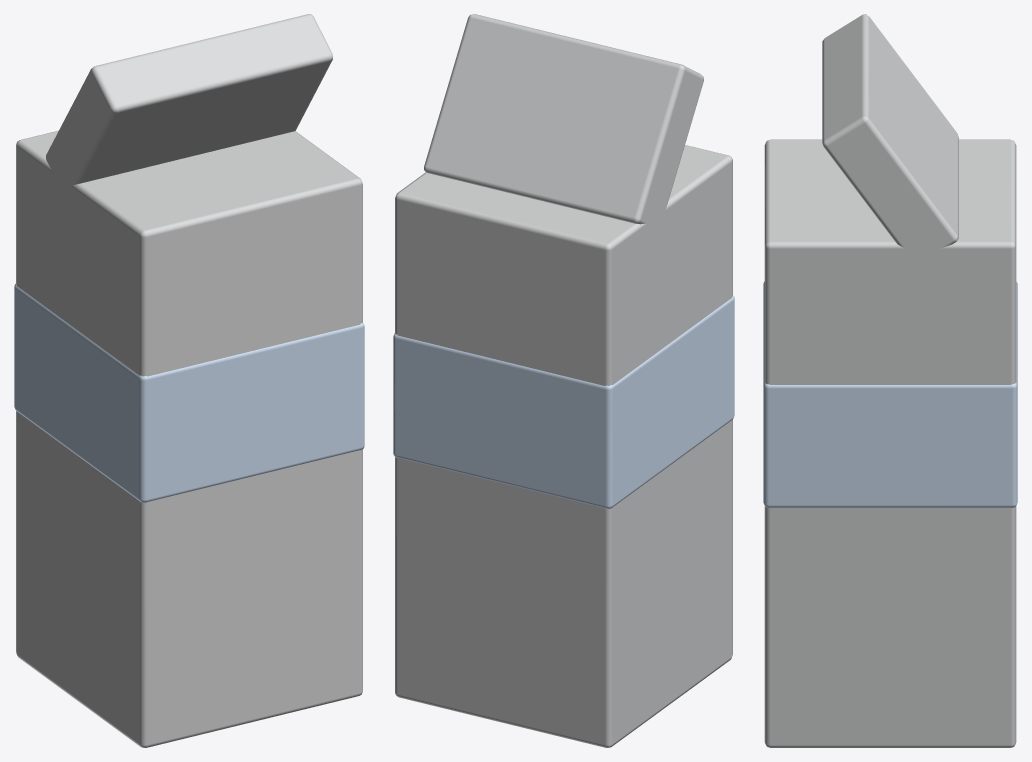
File: SM_MilkCarton.fbx
The picture shows the model from 3 angles, left to right: view 1: azimuth 30°, elevation 25°; view 2: azimuth 150°, elevation 25°; view 3: azimuth 270°, elevation 25°; orthographic projection. The views are drawn at different scales.
Visible parts, largest first — view 1: SM_MilkCarton; view 2: SM_MilkCarton; view 3: SM_MilkCarton.
Part boxes in pixels (box(x1,y1,x2,y2)): SM_MilkCarton: box(14, 14, 364, 747); SM_MilkCarton: box(393, 14, 734, 747); SM_MilkCarton: box(763, 14, 1017, 747).
Bounding box in the file's own units: 0.091 × 0.2496 × 0.091.
